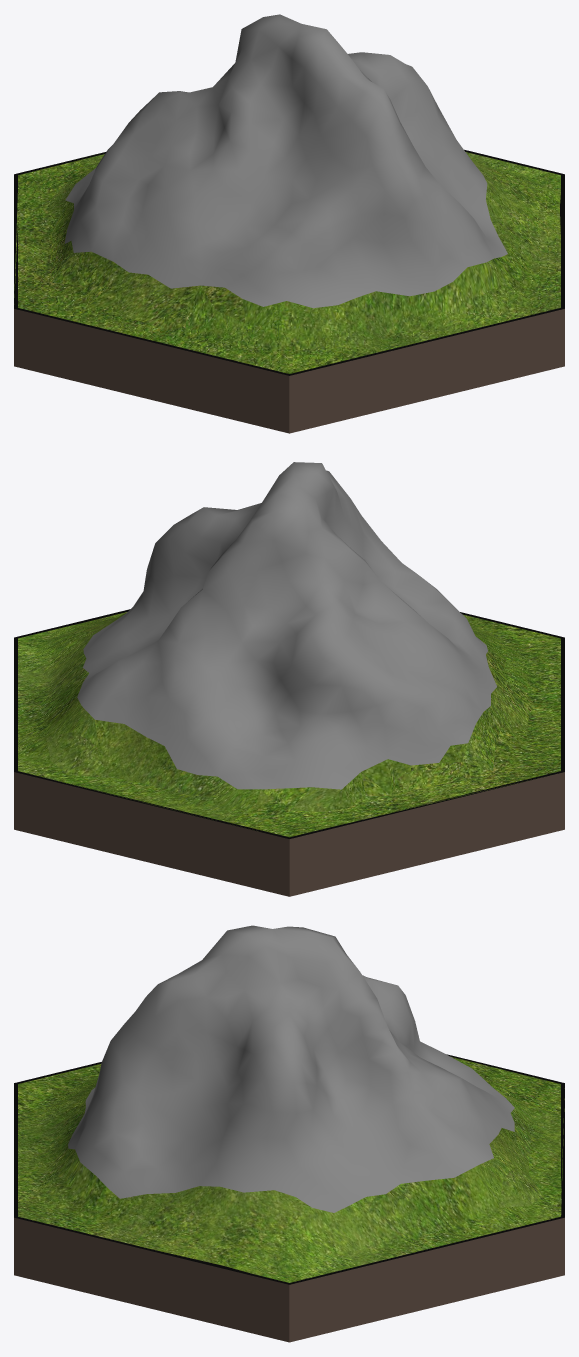
The model's file is MountainTile2.fbx.
The picture shows the model from 3 angles, top to bottom: view 1: azimuth 30°, elevation 25°; view 2: azimuth 150°, elevation 25°; view 3: azimuth 270°, elevation 25°; orthographic projection.
Visible parts, largest first — view 1: MountainTile; view 2: MountainTile; view 3: MountainTile.
Part boxes in pixels (x1,y1,x2,y2): MountainTile: (14,14,564,433); MountainTile: (14,462,564,896); MountainTile: (14,925,564,1342).
Bounding box in the file's own units: 500 × 244 × 433.
4 materials, 1 textured.
